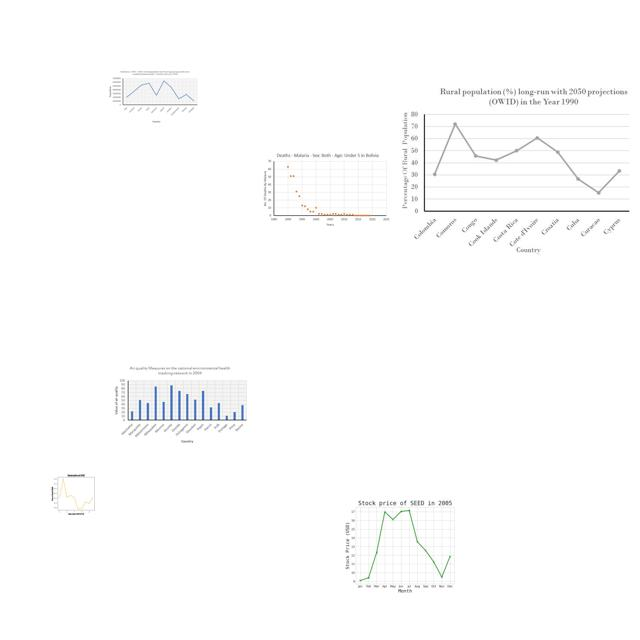Graph: (395, 84, 633, 257), (337, 495, 470, 595), (111, 364, 249, 445), (260, 150, 392, 229), (107, 69, 199, 124), (47, 472, 104, 515)
